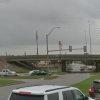Car: (7, 69, 100, 100)
